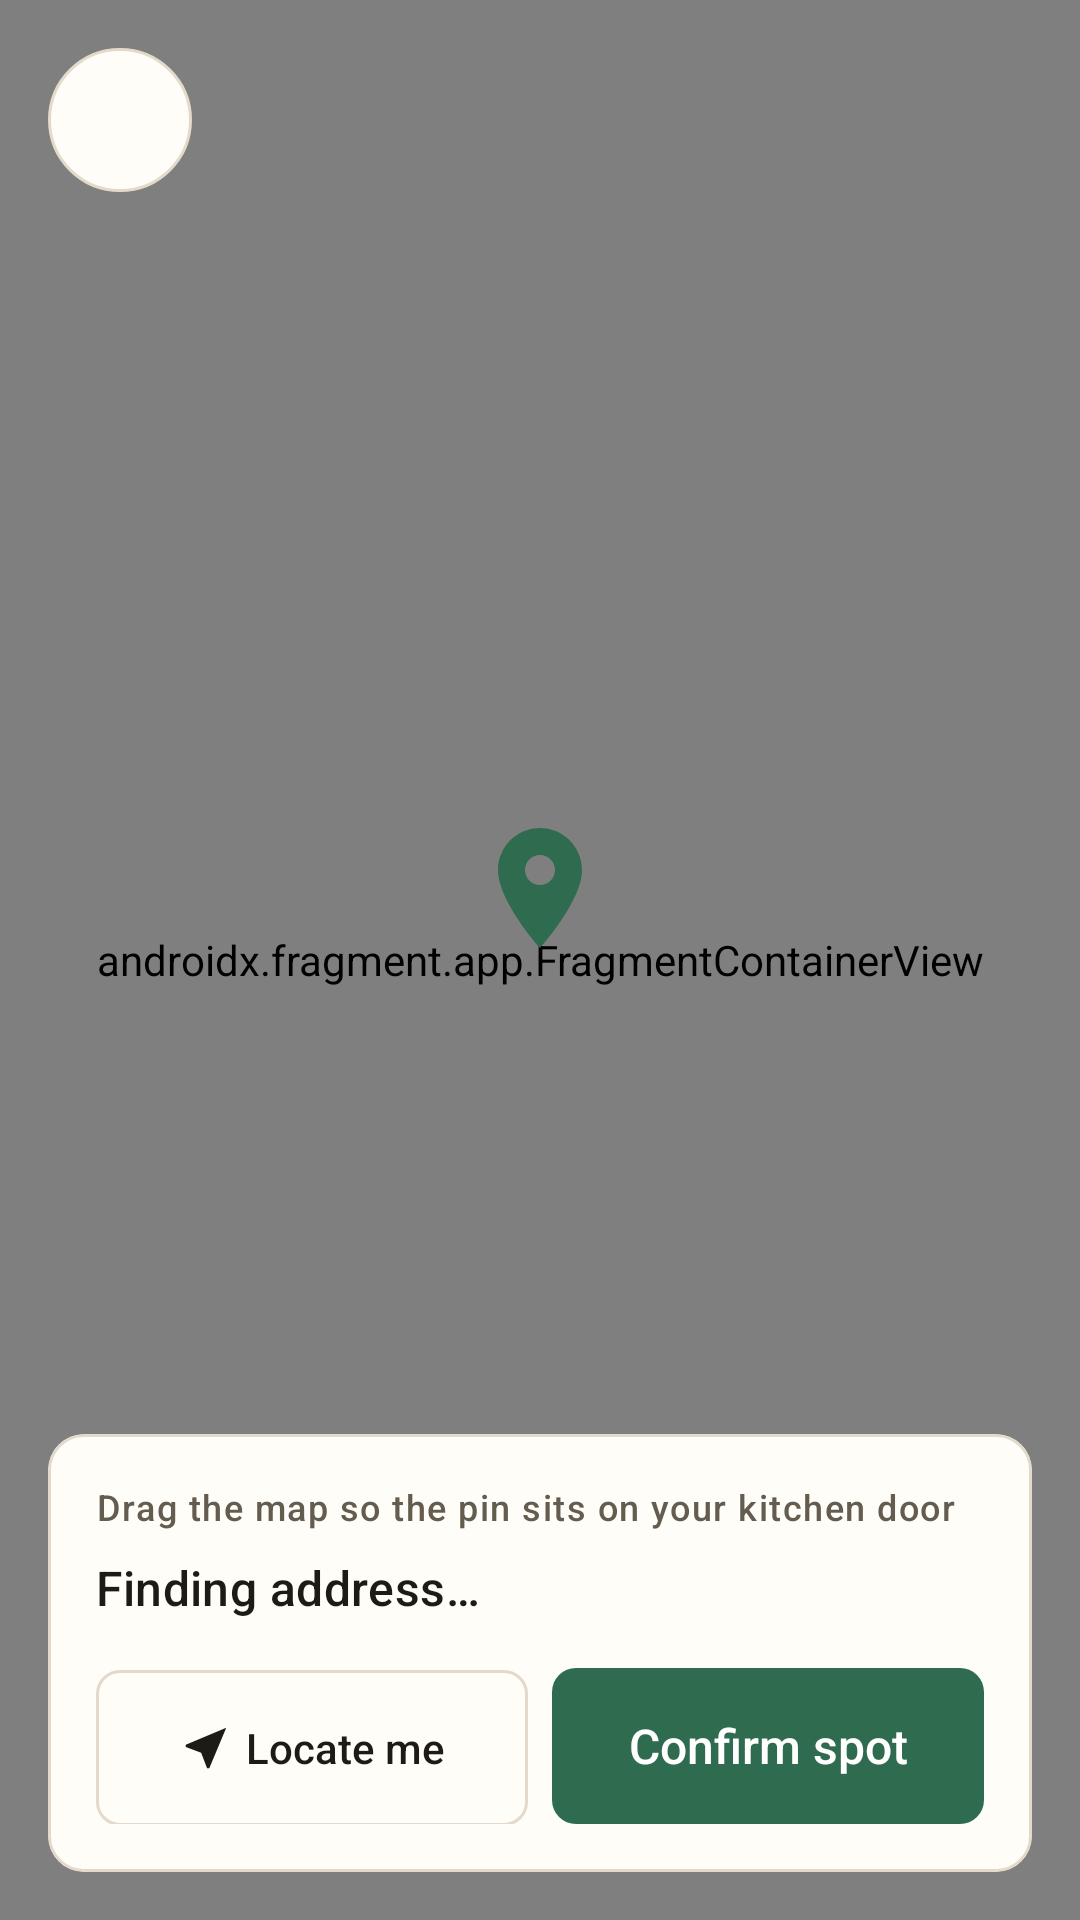

Icon click points for this 1080 x 1920 phone screenshot, format point (x, y):
location on: point (540, 894)
